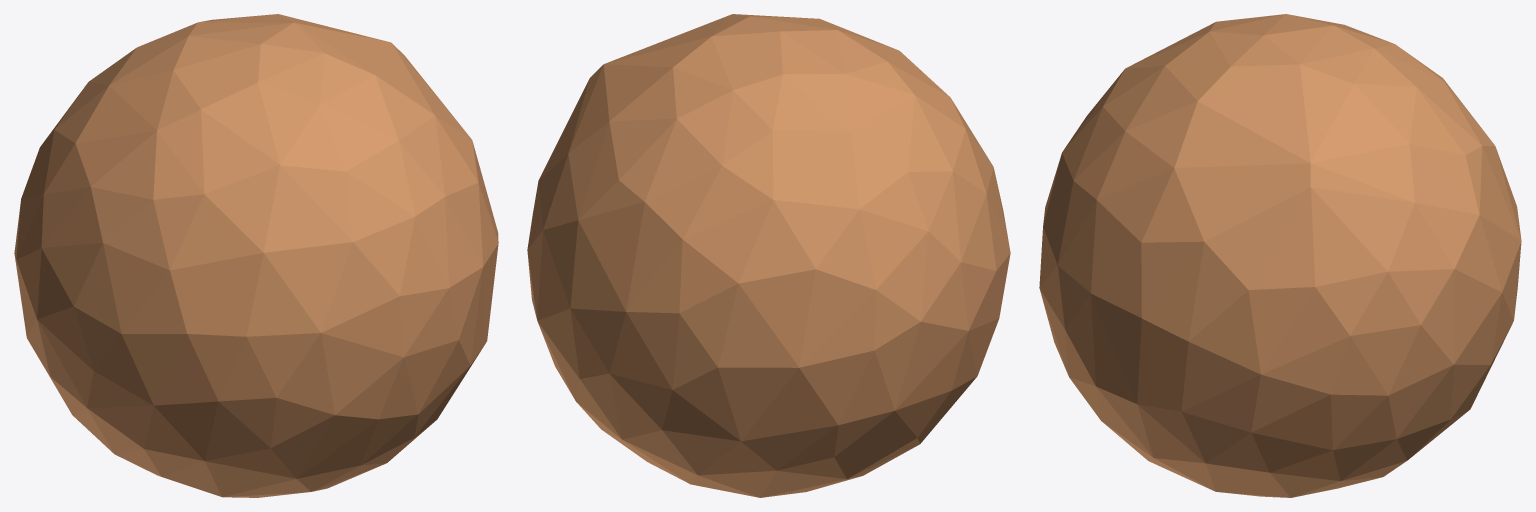
Rendered from coruscant_simple.dae.
3 renders of one model, left to right at view 1: azimuth 30°, elevation 25°; view 2: azimuth 150°, elevation 25°; view 3: azimuth 270°, elevation 25°, orthographic.
Parts seen in each view (by area): view 1: Icosphere; view 2: Icosphere; view 3: Icosphere.
Boxes of the visible parts, x1,y1,x2,y2 form: Icosphere: (14,14,498,497); Icosphere: (527,14,1010,497); Icosphere: (1039,14,1521,497).
Bounding box in the file's own units: 6.04 × 5.99 × 6.03.
